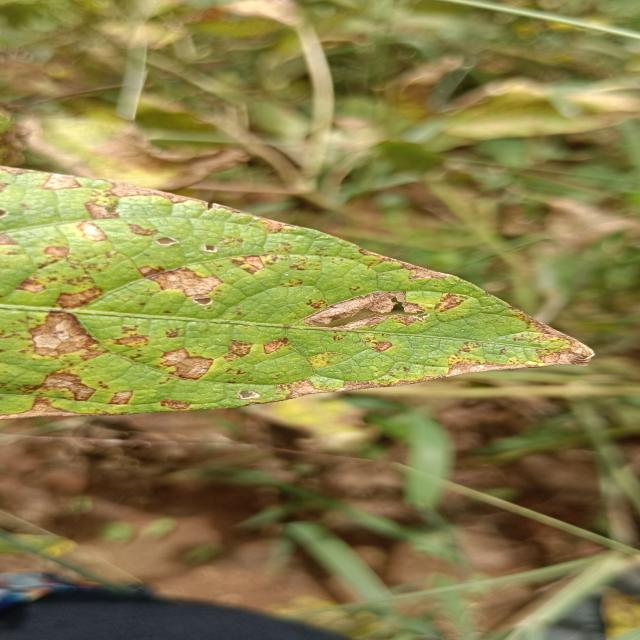Black gram_leaf spot: (0, 144, 615, 426)
